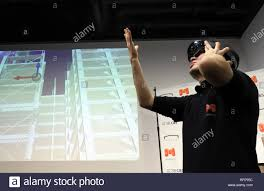hololens: (186, 40, 240, 69)
